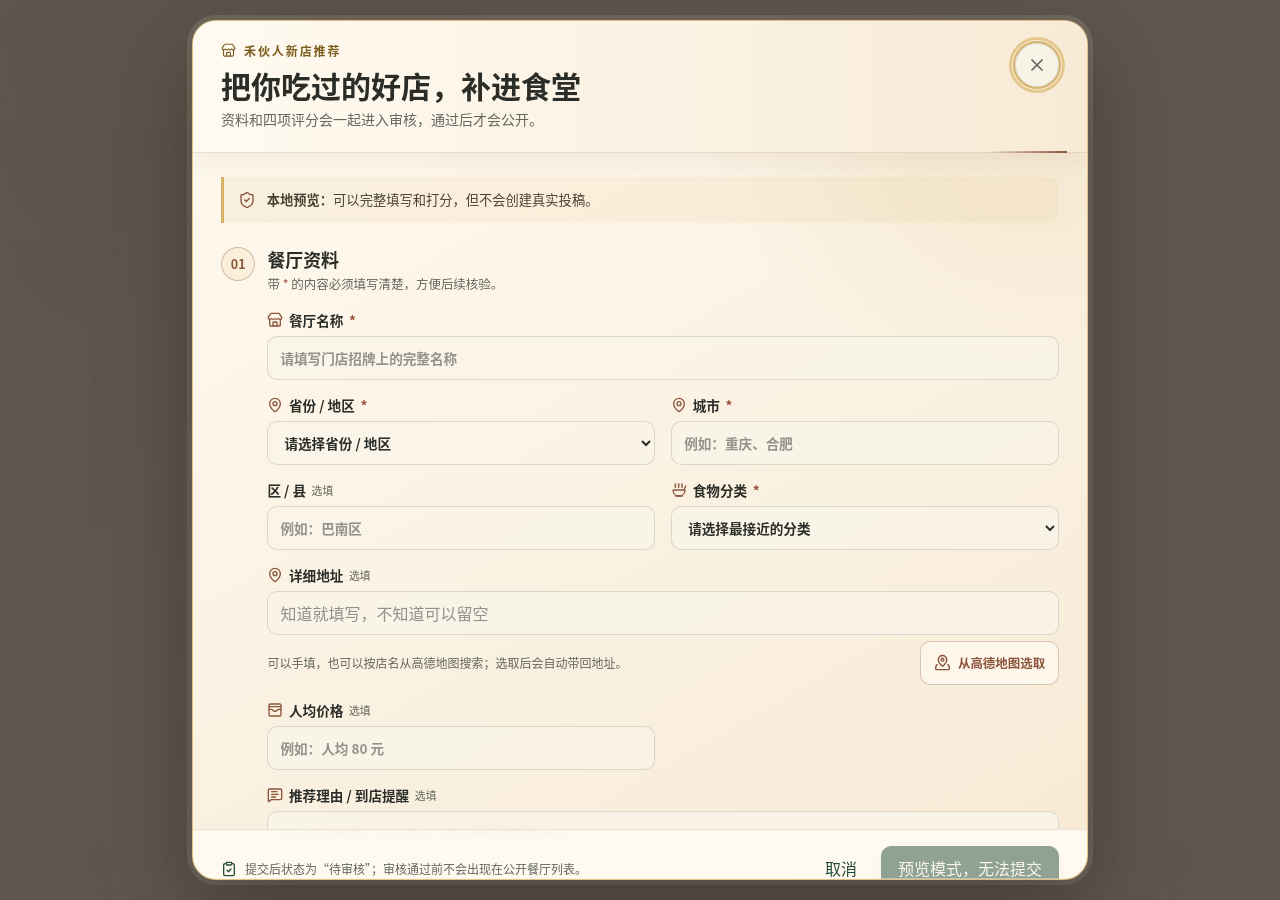
CanteenRestaurantSubmissionDialog › keeps the full form visible in local preview without a fake submit action
The width and height of the screenshot is (1280, 900).
Expected: the text "本地预览：" is shown, [267, 190, 333, 209]
Expected: the field labelled "餐厅名称 *" is shown, [267, 336, 1059, 380]
What coordinates should you click on to do the following:
click the button "从高德地图选取"
I would click on:
 (989, 663)
Its box is [920, 641, 1059, 685].
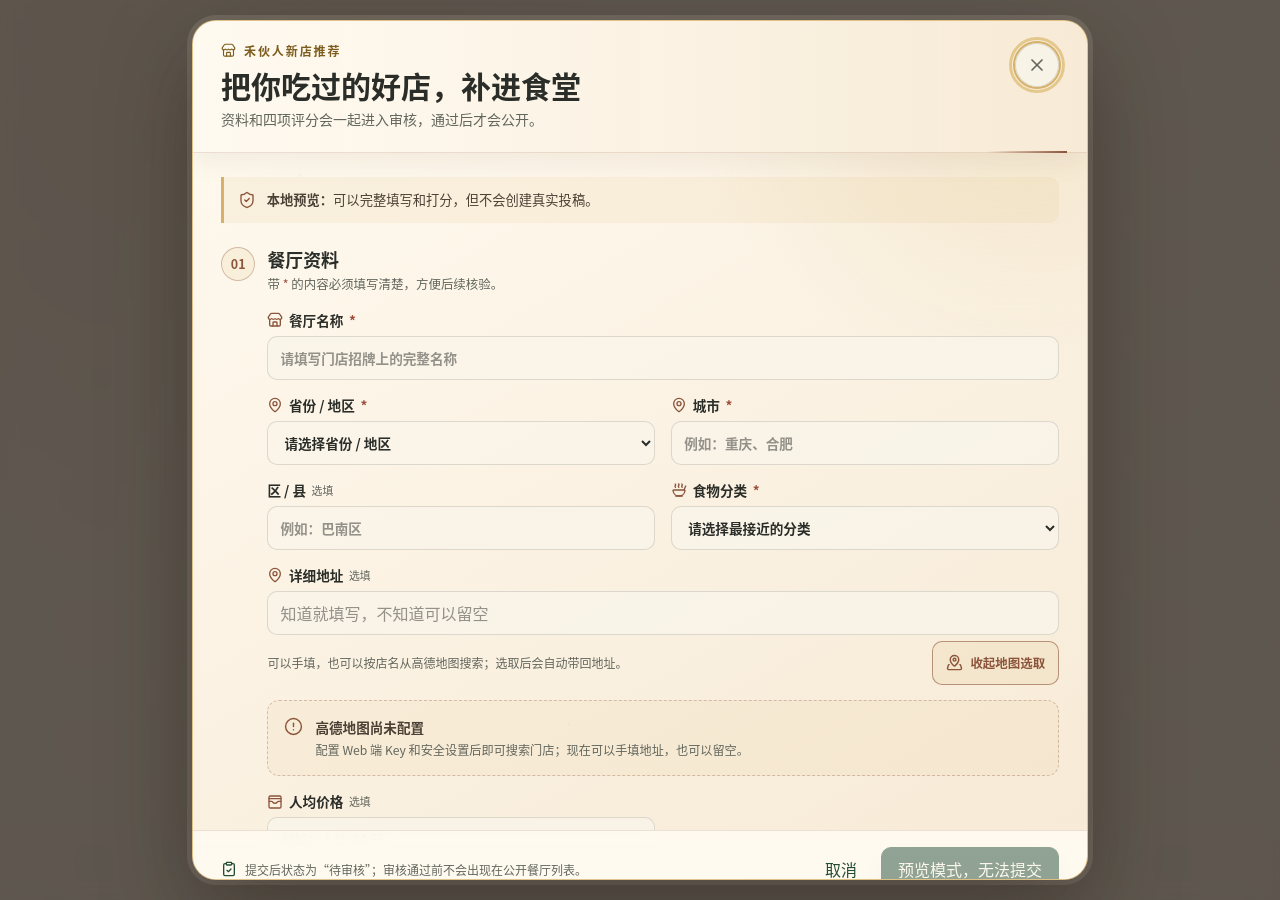
Expected: the button "预览模式，无法提交" is disabled, [881, 847, 1059, 880]
Result: the text "高德地图尚未配置" is shown at [315, 717, 424, 737]
